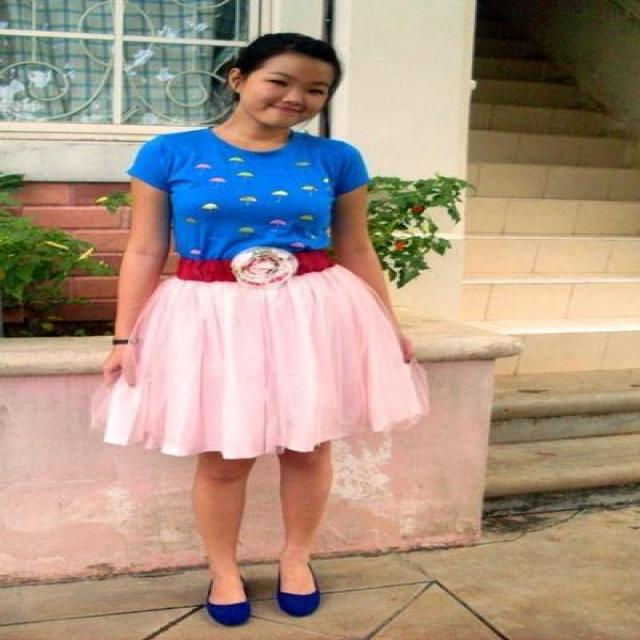shirt: (128, 129, 368, 259)
shoe: (211, 588, 320, 626)
skirt: (104, 268, 421, 458)
